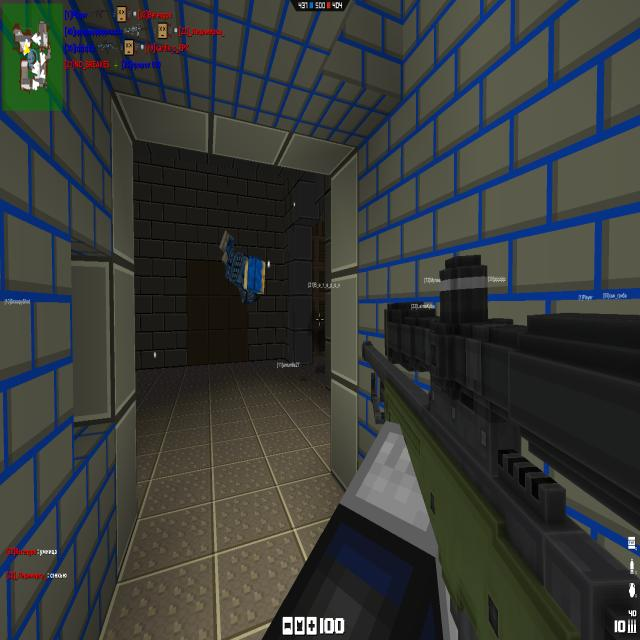player: (222, 236, 264, 303)
